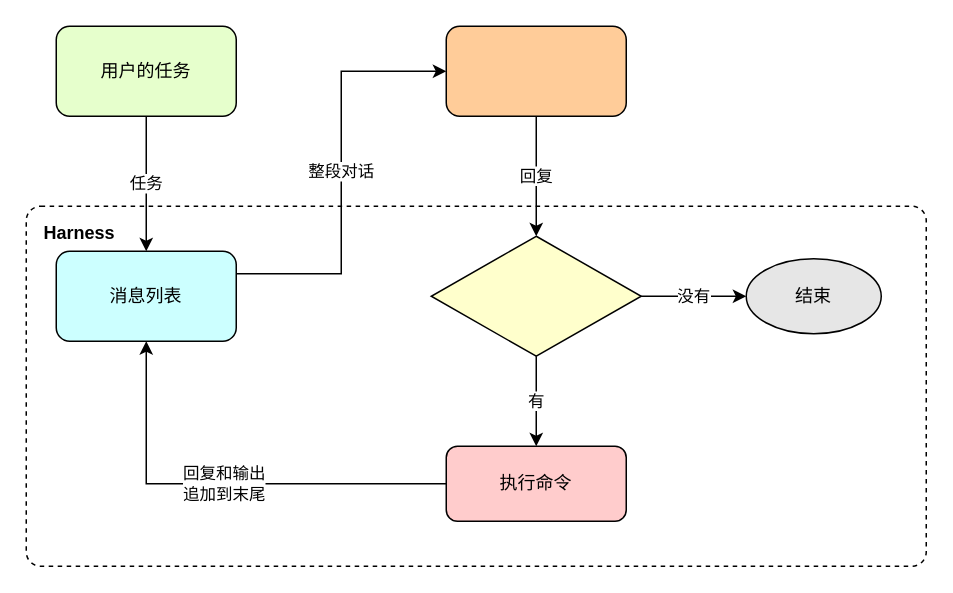
Image size: 953x593. Some labels were removed from this diagram. Each missing label, with the centre of its shape:
回复里有 <bash>吗？: point (535, 295)
模型: point (535, 70)
